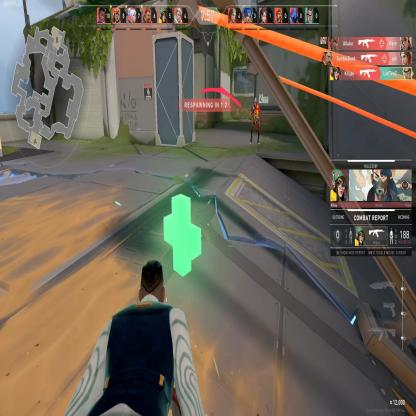enemy: (249, 96, 261, 146)
